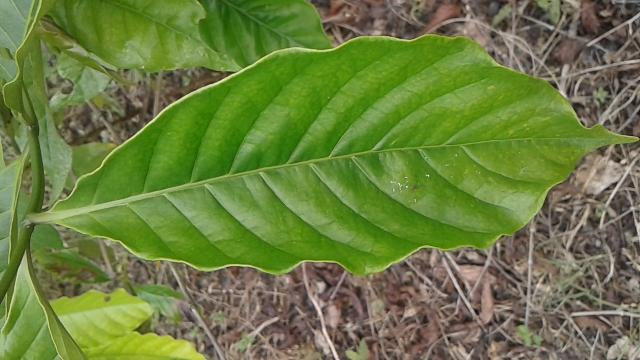healthy: (49, 35, 638, 274)
